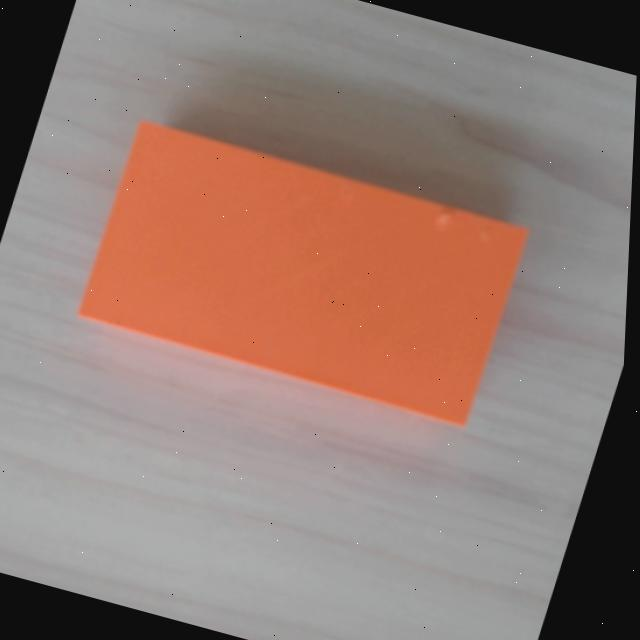Balok-Jingga-1005025: (77, 117, 527, 427)
